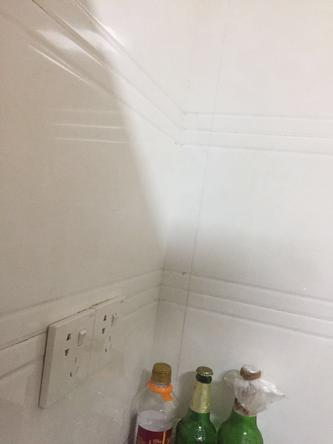switch: (77, 328, 93, 348)
